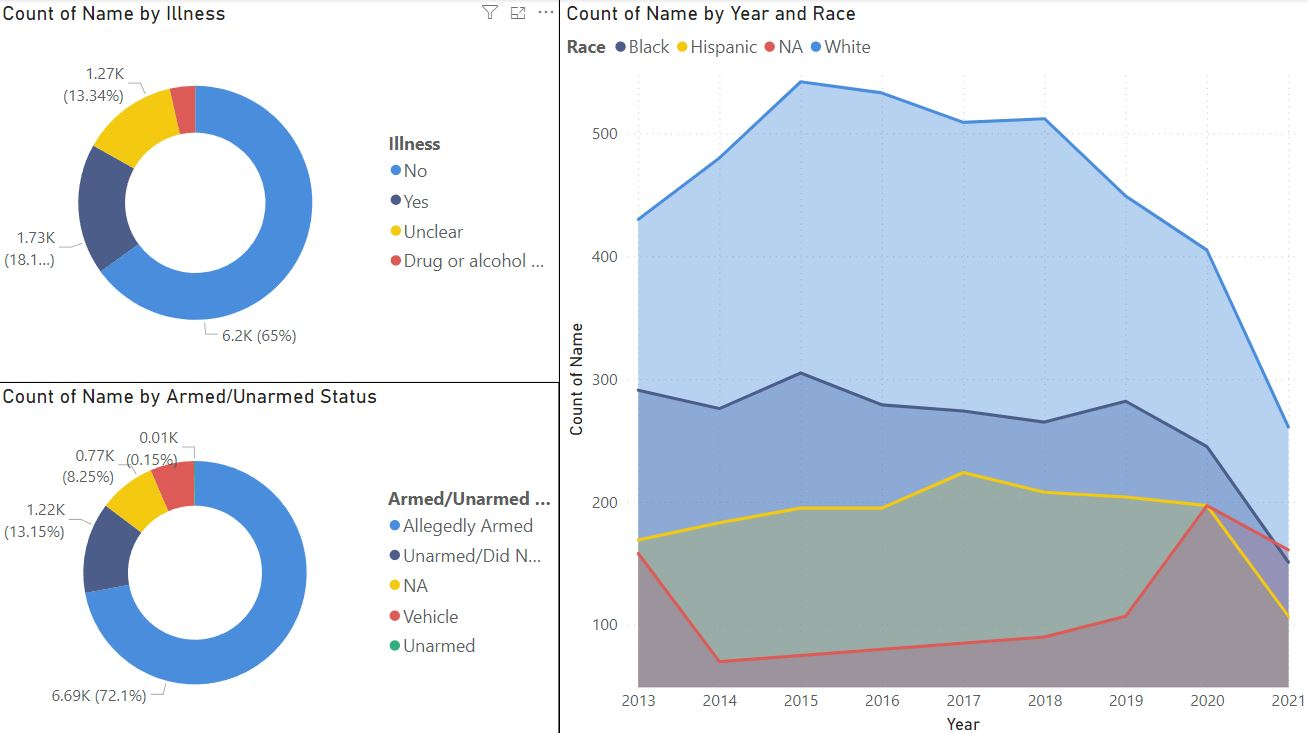

The page's visual inventory and layout, read from the dashboard file:
{"tool":"powerbi","page":{"name":"Page 3","canvas":[1280,720],"ordinal":5},"visuals":[{"type":"areaChart","fields":{"Y":["Count(Data Corrected.Name)"],"Series":["Data Corrected.Race"],"Category":["Data Corrected.Date.Variation.Date Hierarchy.Year"]},"box":[548.6,0,731.4,719.8],"z":0},{"type":"donutChart","fields":{"Y":["CountNonNull(Data Corrected.Name)"],"Category":["Data Corrected.Illness"]},"box":[0,0,548.6,372.5],"z":1},{"type":"donutChart","fields":{"Category":["Data Corrected.Armed/Unarmed Status"],"Y":["Count(Data Corrected.Name)"]},"box":[0,373,549,347],"z":2}]}

Visuals, with their boxes in screenshot pixels (x1, y1, x2, y2), scaled from the page's 1280x720 canvas onto the 1308x733 screenshot:
areaChart - Count(Data Corrected.Name) x Data Corrected.Race: 561/0/1307/732
donutChart - CountNonNull(Data Corrected.Name) x Data Corrected.Illness: 0/0/561/379
donutChart - Data Corrected.Armed/Unarmed Status x Count(Data Corrected.Name): 0/380/561/732
